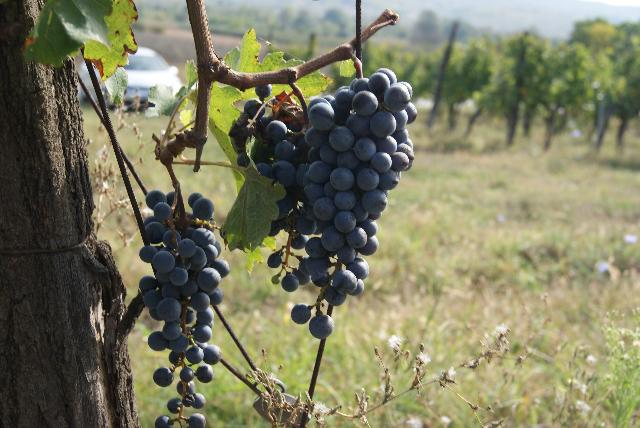grapes: (295, 69, 416, 306), (139, 190, 230, 428), (246, 120, 316, 269)
